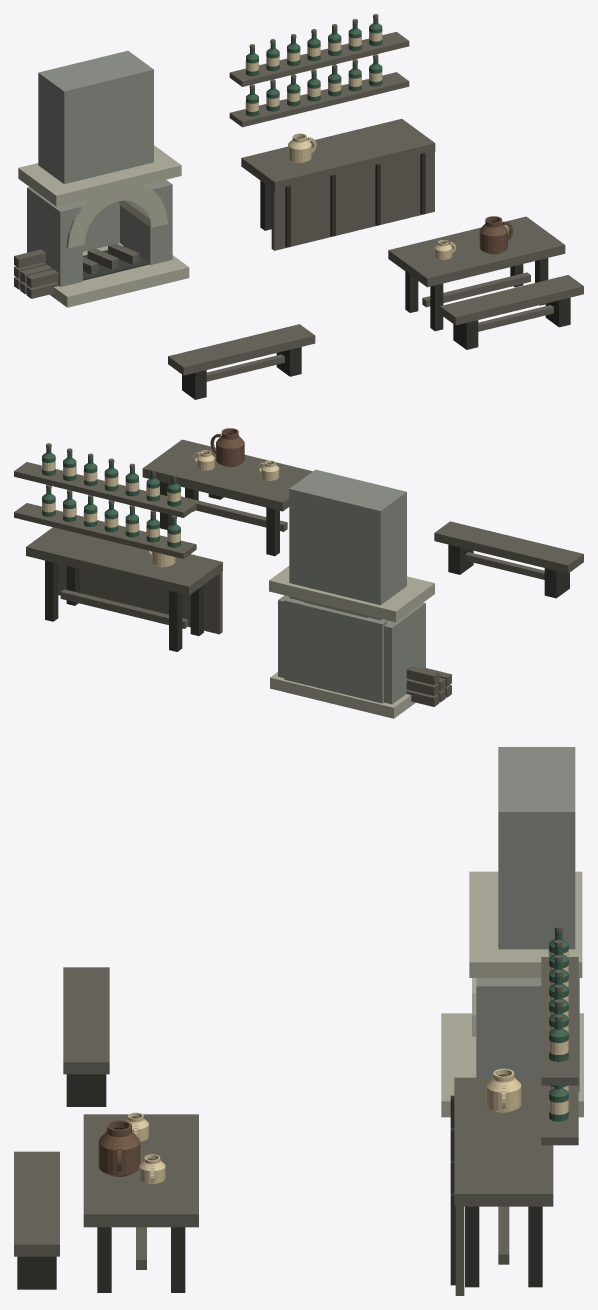
Rendered from village_hearthside_artifacts.glb.
3 views of the same model, one above another, from view 1: azimuth 30°, elevation 25°; view 2: azimuth 150°, elevation 25°; view 3: azimuth 270°, elevation 25° (orthographic). The views are drawn at different scales.
Parts seen in each view (by area): view 1: village_hearthside_artifacts; view 2: village_hearthside_artifacts; view 3: village_hearthside_artifacts.
Part boxes in pixels (<box>): village_hearthside_artifacts: <box>14,14,583,399</box>; village_hearthside_artifacts: <box>14,428,583,718</box>; village_hearthside_artifacts: <box>14,747,583,1295</box>.
Bounding box in the file's own units: 6.23 × 2.95 × 5.19.
